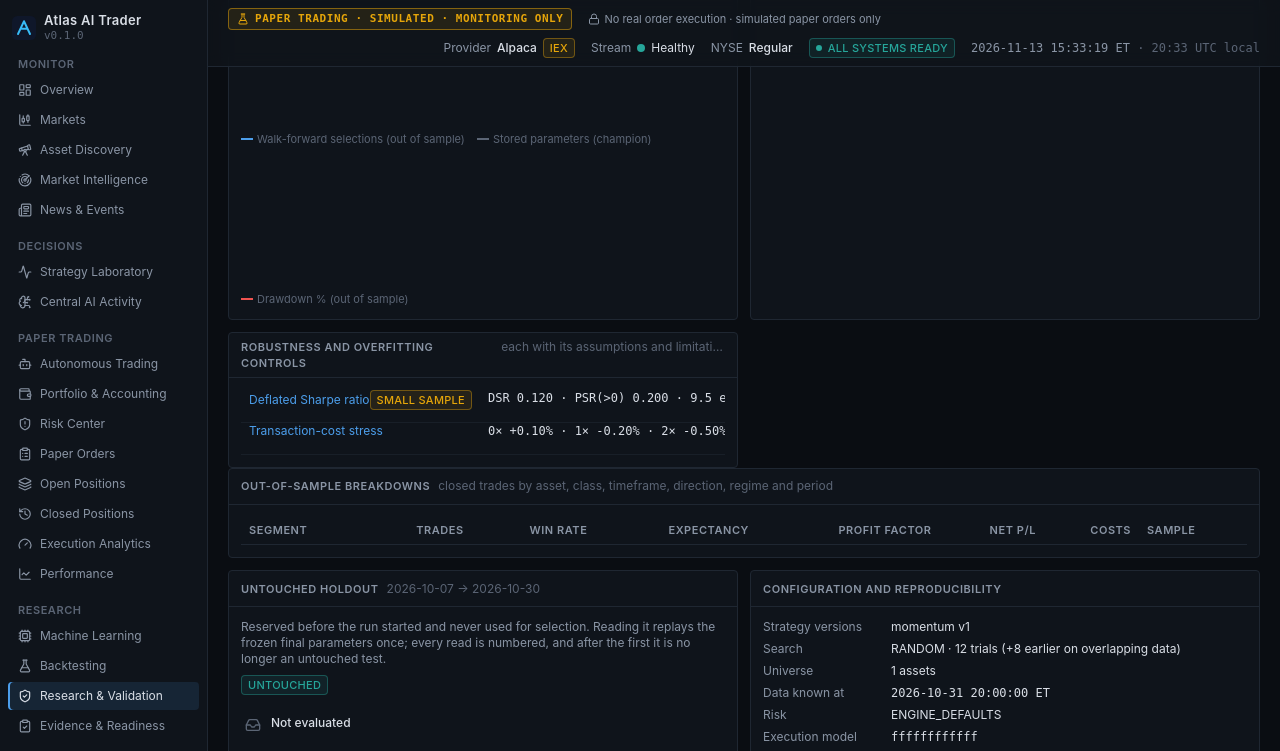
Test: Strategy Research & Validation › shows folds, in-sample versus out-of-sample, robustness and an untouched holdout
(page scrolled)
Check: the text "0× +0.10% · 1× -0.20% · 2× -0.50%" is shown, box [488, 424, 725, 438]
Check: the text "UNTOUCHED" is shown, box [241, 675, 328, 695]
Step 1. Click the button "Deflated Sharpe ratio" → {"x": 309, "y": 400}, box [249, 392, 370, 408]
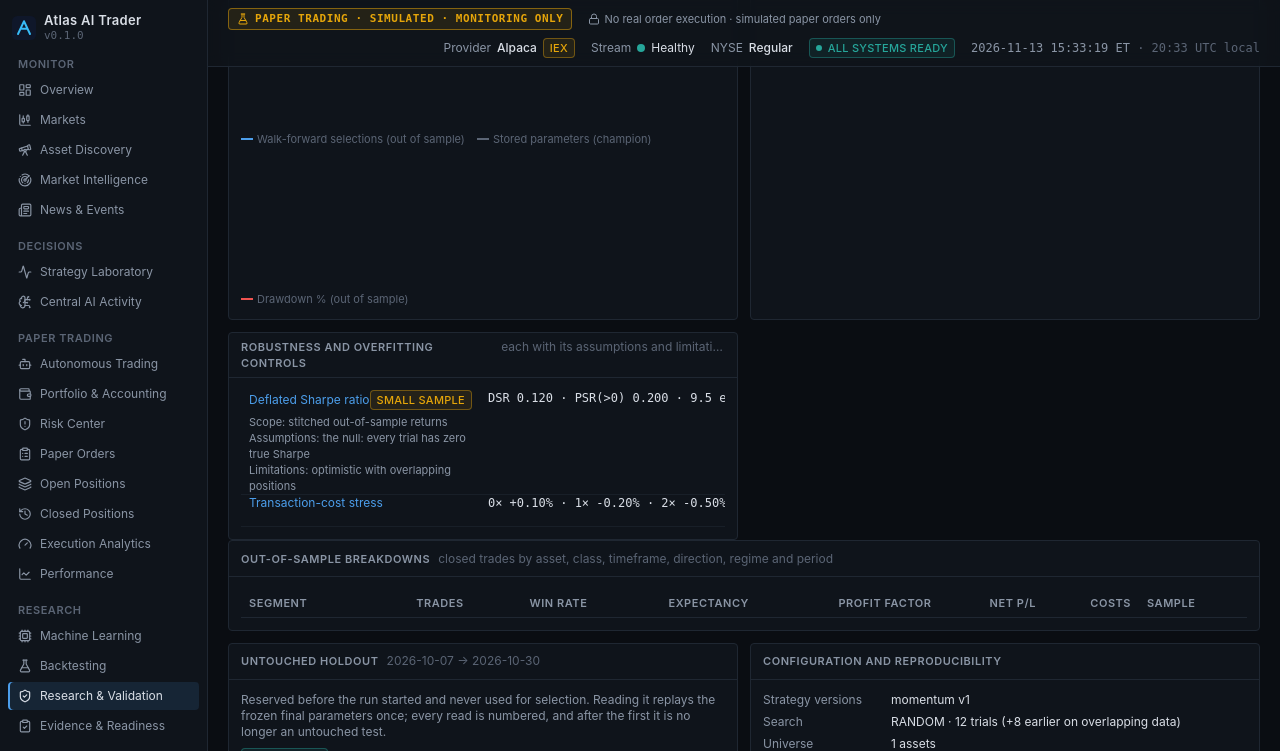
Check: the text "Assumptions: the null: every trial has zero true Sharpe" is shown, box [249, 430, 472, 462]
